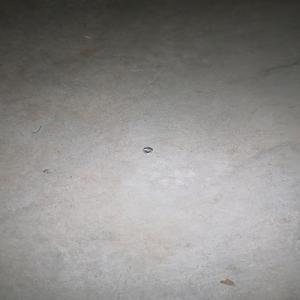Nut: (142, 147, 153, 153)
